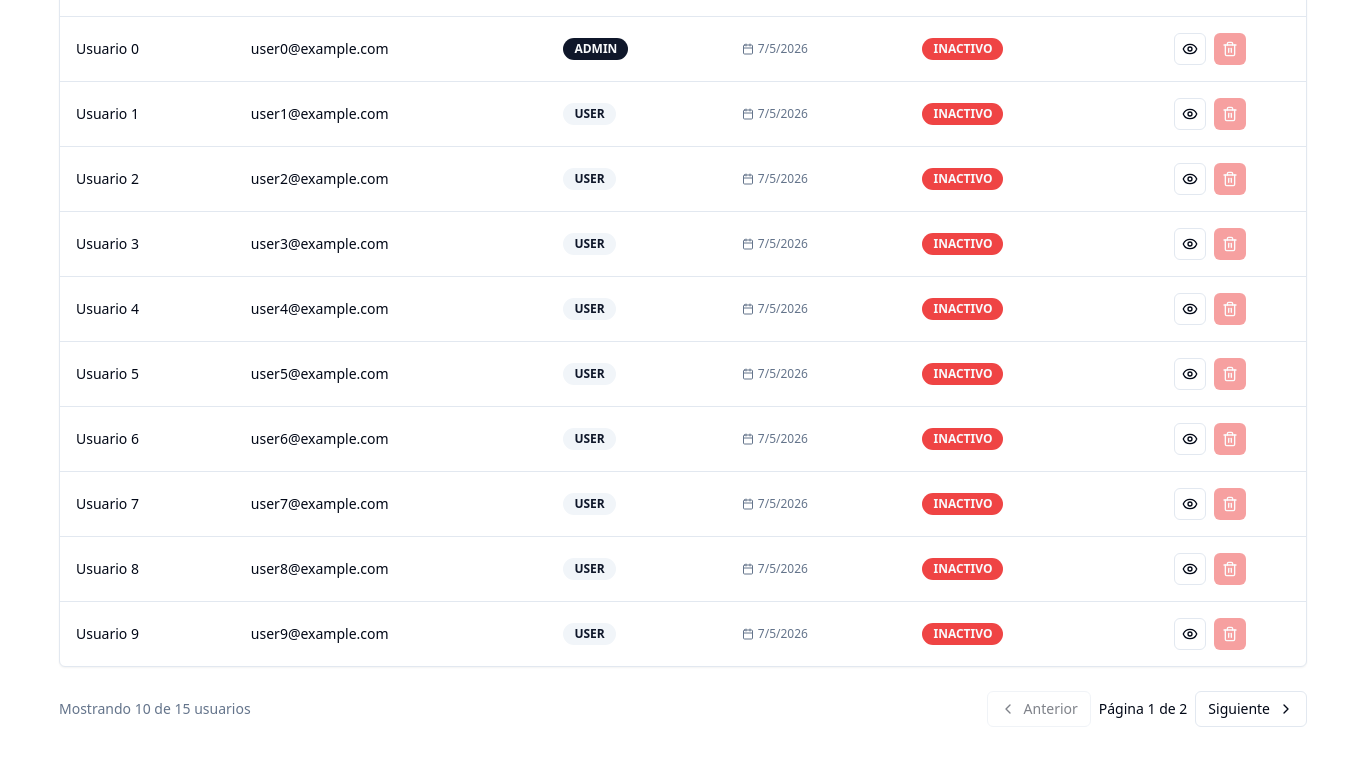
UsersPage › Reset de página al buscar › debería volver a página 1 al escribir un nuevo término de búsqueda
The image size is (1366, 767).
(page scrolled)
Expected: the text "Usuario 0" is shown, top-left (60, 16), bottom-right (235, 81)
// Navega a página 2
Click the button "Siguiente".
click(1251, 708)  # box top-left (1195, 690), bottom-right (1307, 726)
(page scrolled)
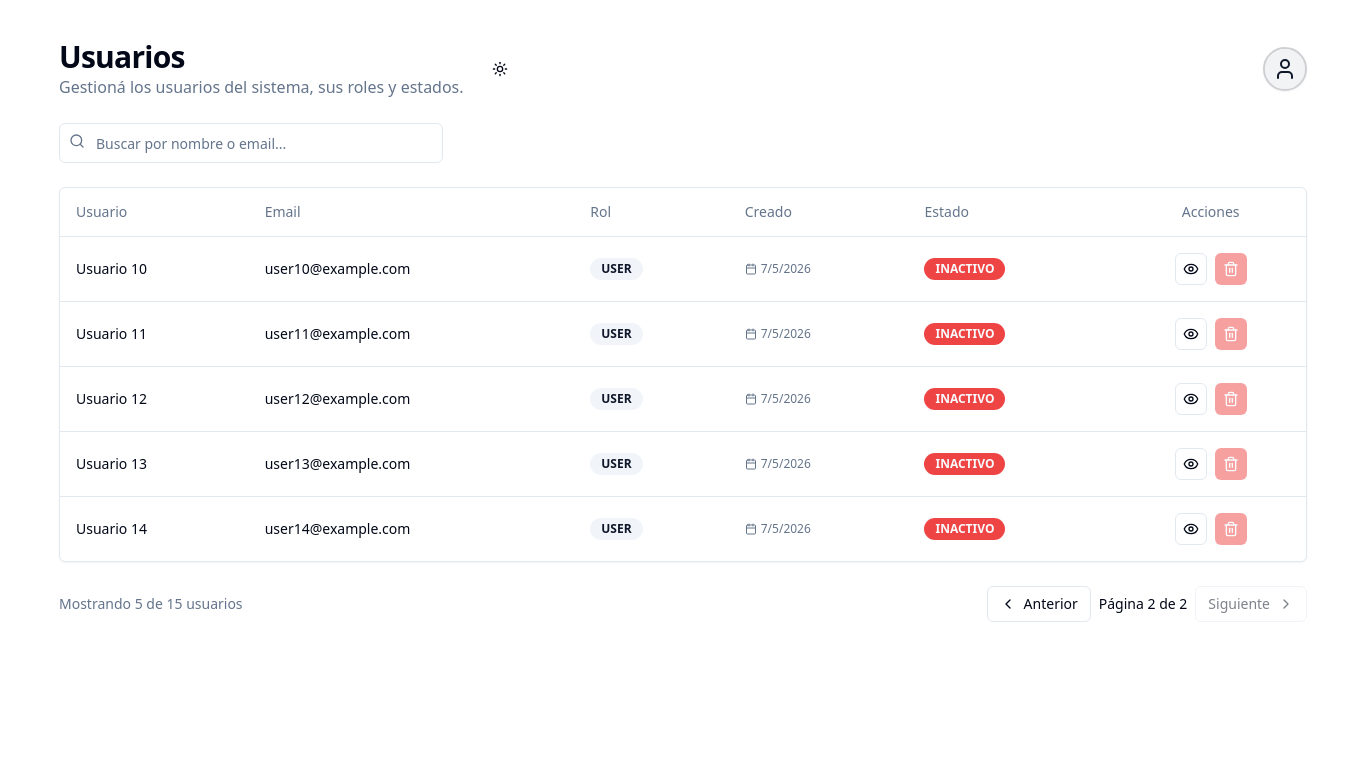
Expected: the text "Usuario 10" is shown, top-left (60, 236), bottom-right (249, 301)
Type "Usuario 1" into the field with placeholder "Buscar por nombre o email...".
click(251, 143); type("Usuario 1")  # box top-left (59, 123), bottom-right (443, 163)
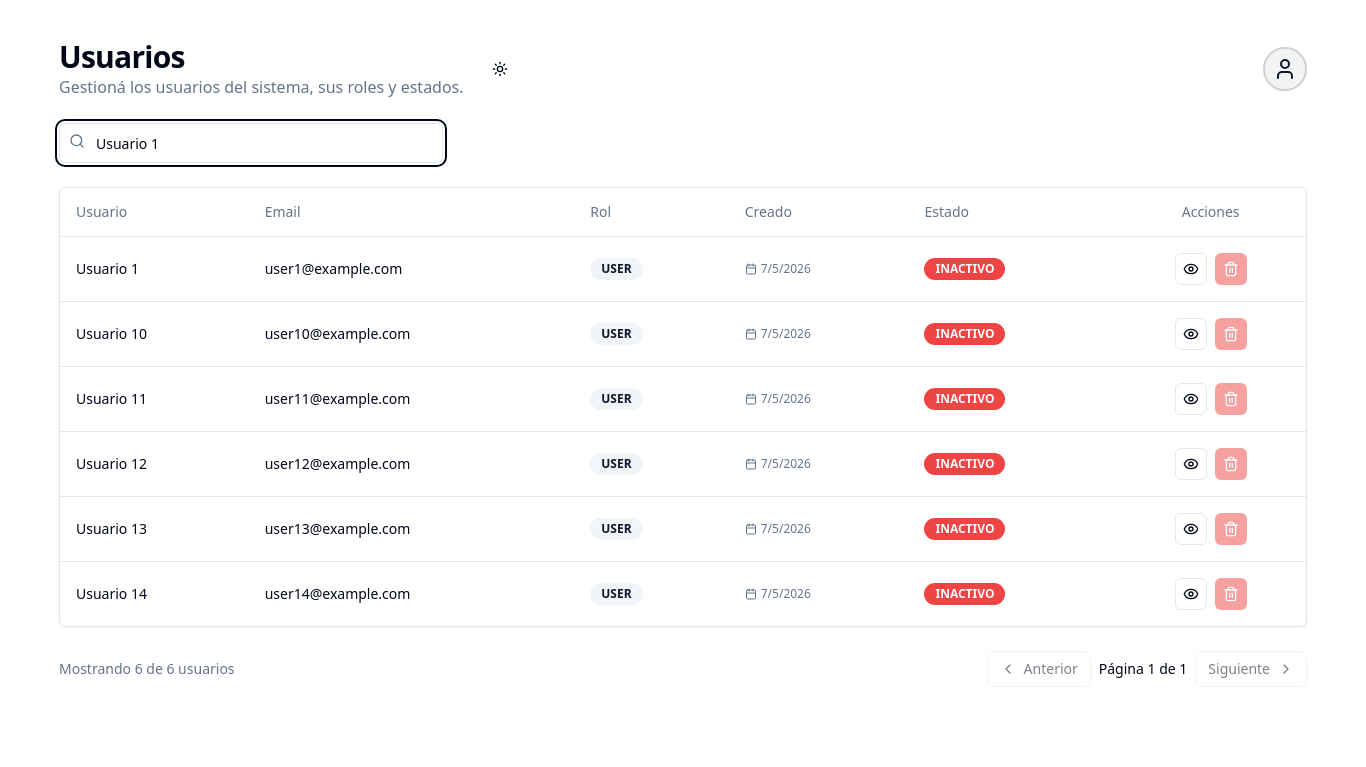
Expected: the text "Página 1 de 1" is shown, top-left (1099, 658), bottom-right (1187, 678)
